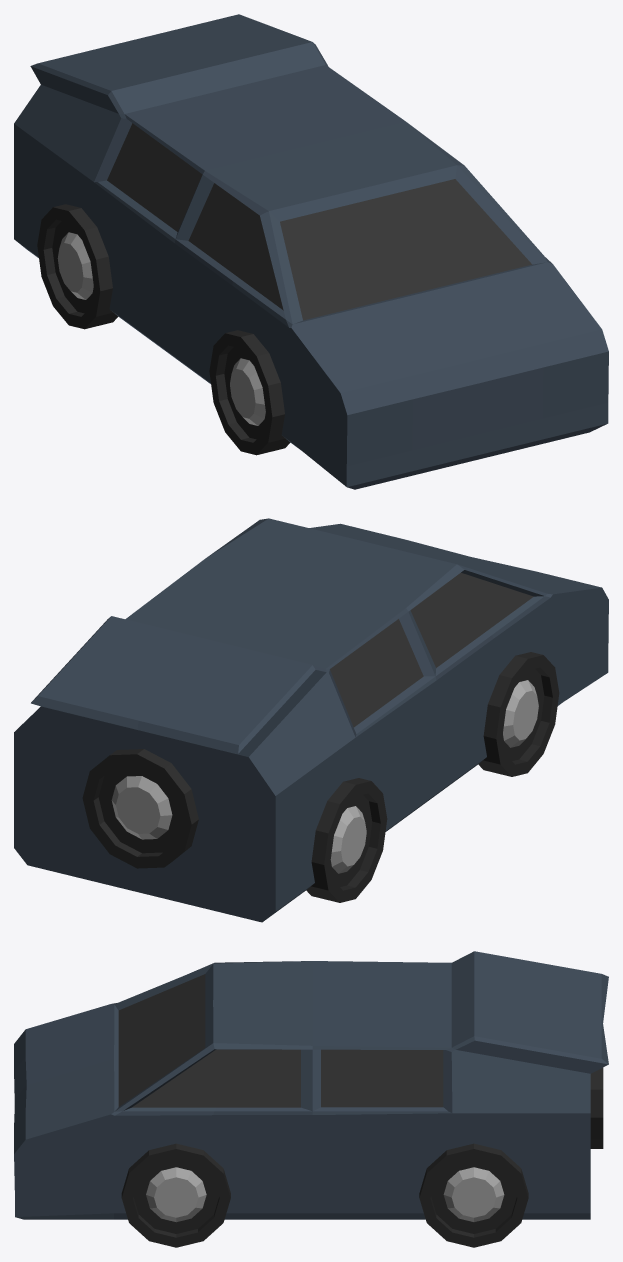
File: Cibertruck.fbx
3 renders of one model, top to bottom at view 1: azimuth 30°, elevation 25°; view 2: azimuth 150°, elevation 25°; view 3: azimuth 270°, elevation 25°, orthographic. The views are drawn at different scales.
Visible parts, largest first — view 1: Carro_Base, RuedaDDer, RuedaADer; view 2: Carro_Base, Rueda_Repuesto, RuedaADer, RuedaDDer; view 3: Carro_Base, RuedaAIzq, RuedaDIzq, Rueda_Repuesto.
Part boxes in pixels (left/top/right/bottom): Carro_Base: left=14, top=14, right=608, bottom=489; RuedaDDer: left=209, top=330, right=290, bottom=455; RuedaADer: left=37, top=204, right=118, bottom=329; Carro_Base: left=14, top=518, right=608, bottom=922; Rueda_Repuesto: left=82, top=749, right=198, bottom=868; RuedaADer: left=306, top=778, right=387, bottom=902; RuedaDDer: left=478, top=652, right=559, bottom=776; Carro_Base: left=14, top=951, right=608, bottom=1219; RuedaAIzq: left=419, top=1143, right=528, bottom=1247; RuedaDIzq: left=121, top=1143, right=230, bottom=1247; Rueda_Repuesto: left=590, top=1067, right=603, bottom=1148.
Size of the model in its own units: 219 by 163 by 455.
